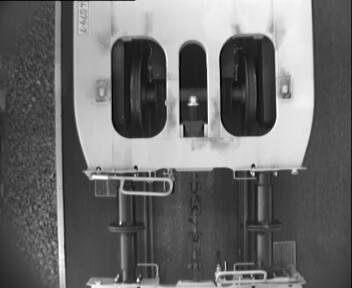twist_lock_2: (97, 29, 287, 146)
